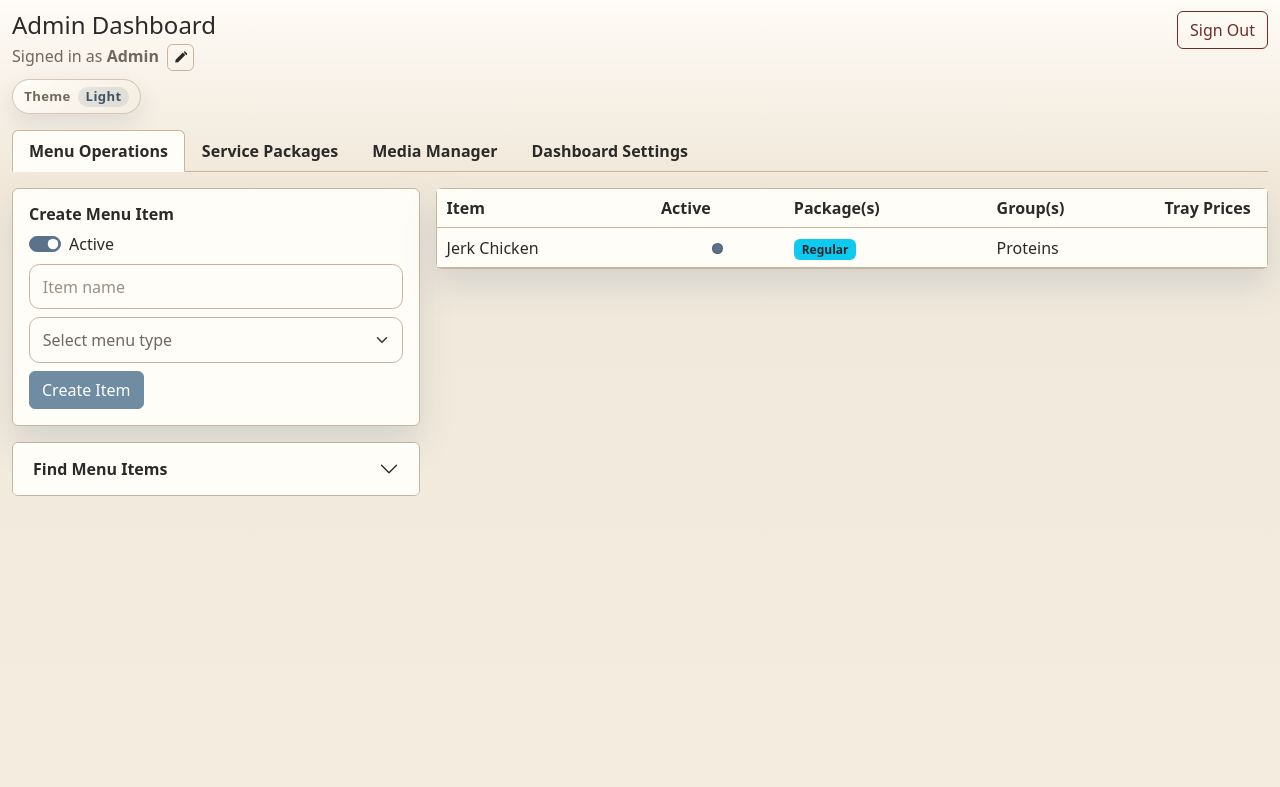
Test: AdminDashboard › highlights selected rows in menu and media tables while editing
Click the cell "Jerk Chicken": click(544, 248) x1=437 y1=228 x2=652 y2=268
(page scrolled)
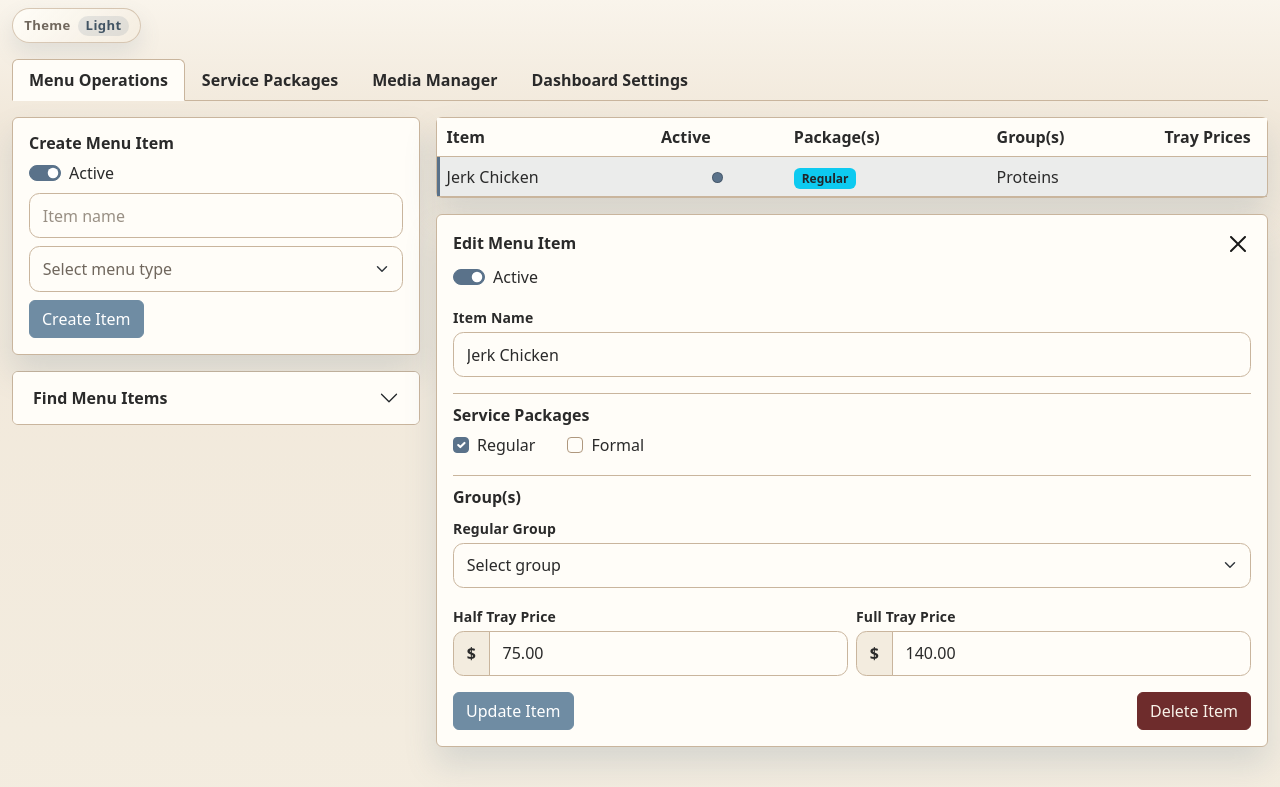
Expected: the heading "Edit Menu Item" is shown, x1=453 y1=234 x2=576 y2=254
Click the tab "Media Manager": click(435, 80) x1=372 y1=69 x2=498 y2=91
(page scrolled)
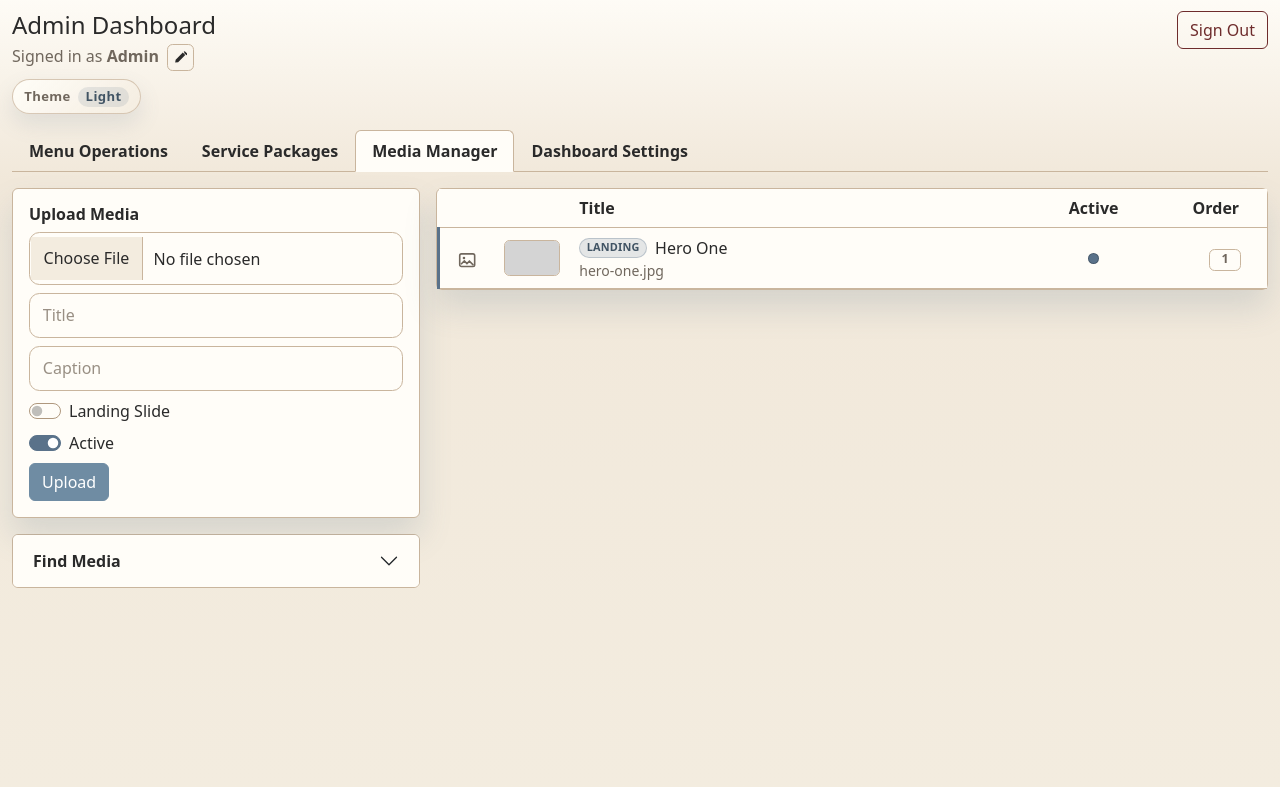
Expected: the text "Hero One" is shown
Click the text "Hero One": click(691, 248) x1=655 y1=236 x2=728 y2=260
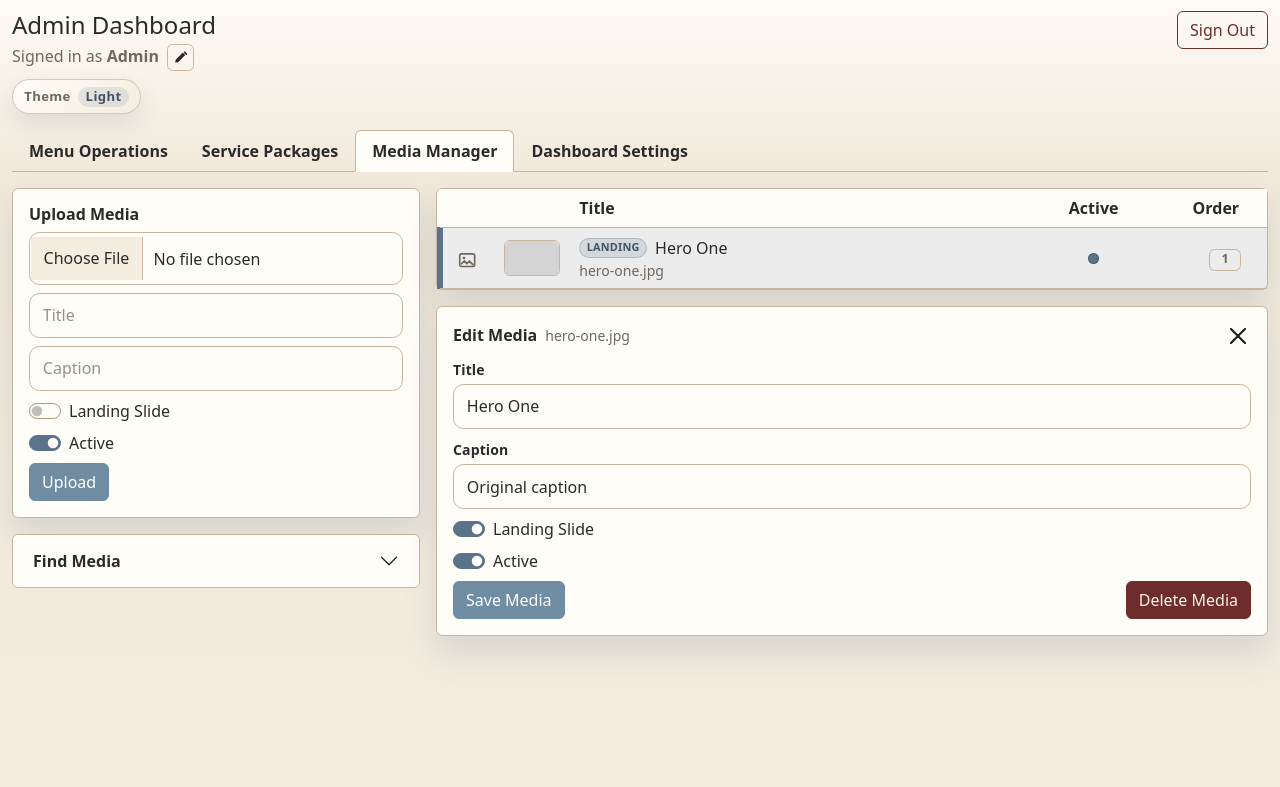
Expected: the heading "Edit Media" is shown, x1=453 y1=326 x2=537 y2=345
